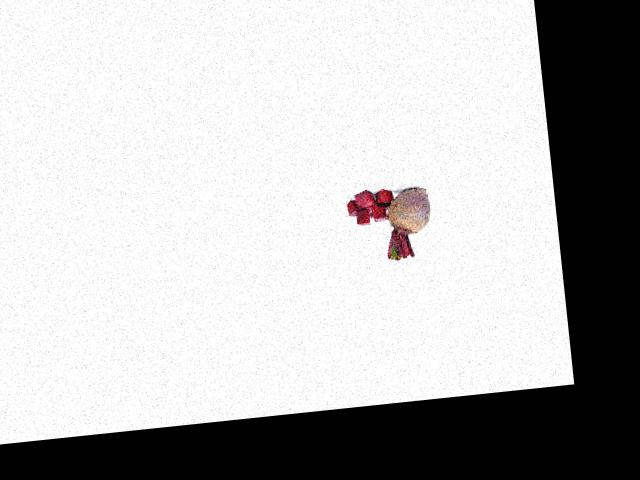beet: (380, 186, 434, 260)
